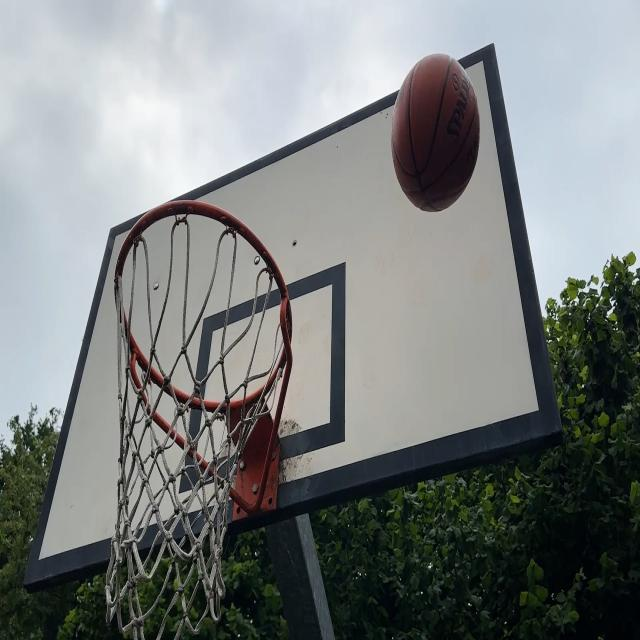Basketball: (392, 56, 482, 216)
